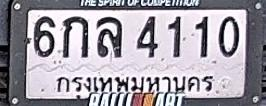0: (218, 15, 239, 56)
1: (195, 15, 208, 58), (168, 15, 180, 58)
4: (136, 15, 158, 58)
6: (33, 15, 54, 56)
A01: (62, 15, 88, 58)
A36: (96, 16, 122, 57)
BKK: (53, 69, 216, 96)
